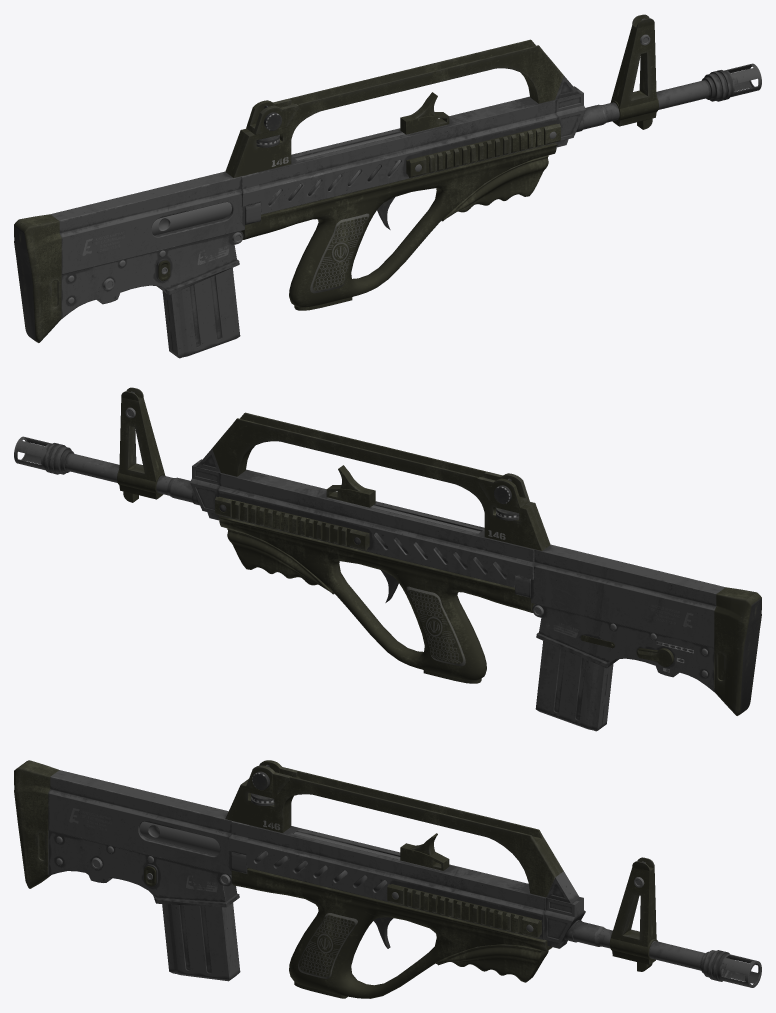
File: kh2002_khaybar_assault_rifle.glb
3 renders of one model, top to bottom at view 1: azimuth 30°, elevation 25°; view 2: azimuth 150°, elevation 25°; view 3: azimuth 330°, elevation 25°, orthographic.
Visible parts, largest first — view 1: Object_2, Object_3; view 2: Object_2, Object_3; view 3: Object_2, Object_3.
Part boxes in pixels (left/top/right/bottom): Object_2: left=14, top=14, right=761, bottom=342; Object_3: left=162, top=268, right=240, bottom=358; Object_2: left=14, top=387, right=761, bottom=715; Object_3: left=535, top=635, right=613, bottom=731; Object_2: left=14, top=760, right=761, bottom=998; Object_3: left=162, top=903, right=240, bottom=981.
Size of the model in its own units: 0.8962 by 0.2671 by 0.0503.
1 material, 1 textured.
